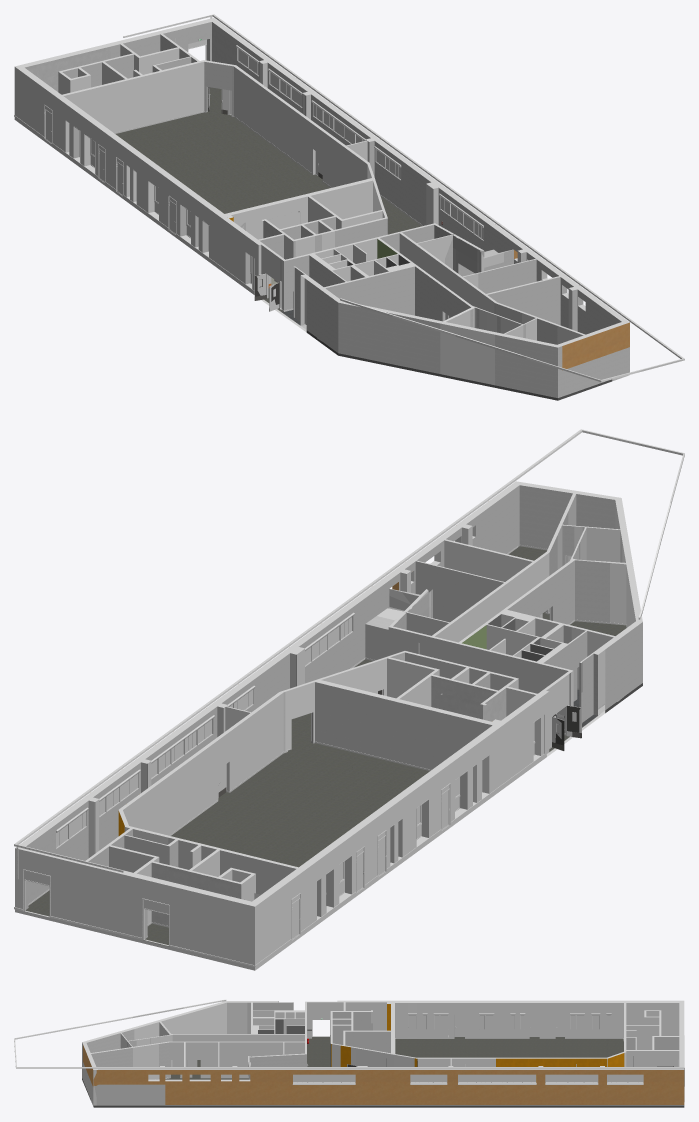
File: imp_-1_floor_aisle_b_sized.glb
The picture shows the model from 3 angles, top to bottom: view 1: azimuth 30°, elevation 25°; view 2: azimuth 150°, elevation 25°; view 3: azimuth 270°, elevation 25°; orthographic projection. The views are drawn at different scales.
Parts seen in each view (by area): view 1: SIMP_COL, NOCOL_Murs, NOCOL_Sol, NOCOL_Cube_1518; view 2: SIMP_COL, NOCOL_Murs, NOCOL_Sol, NOCOL_Cube_1518; view 3: SIMP_COL, NOCOL_Murs, NOCOL_Sol, NOCOL_Cube_1518.
Part boxes in pixels (x1,y1,x2,y2): SIMP_COL: (14, 14, 684, 385); NOCOL_Murs: (25, 22, 629, 397); NOCOL_Sol: (115, 87, 612, 400); NOCOL_Cube_1518: (14, 15, 684, 382); SIMP_COL: (14, 429, 684, 970); NOCOL_Murs: (25, 485, 642, 938); NOCOL_Sol: (25, 546, 642, 946); NOCOL_Cube_1518: (14, 430, 684, 966); SIMP_COL: (14, 1000, 684, 1106); NOCOL_Murs: (82, 1001, 684, 1105); NOCOL_Sol: (82, 1036, 684, 1107); NOCOL_Cube_1518: (14, 999, 684, 1105).
Size of what is drawn, in the model's own units: 17.23 by 4.47 by 67.67.
33 materials, 12 textured.
